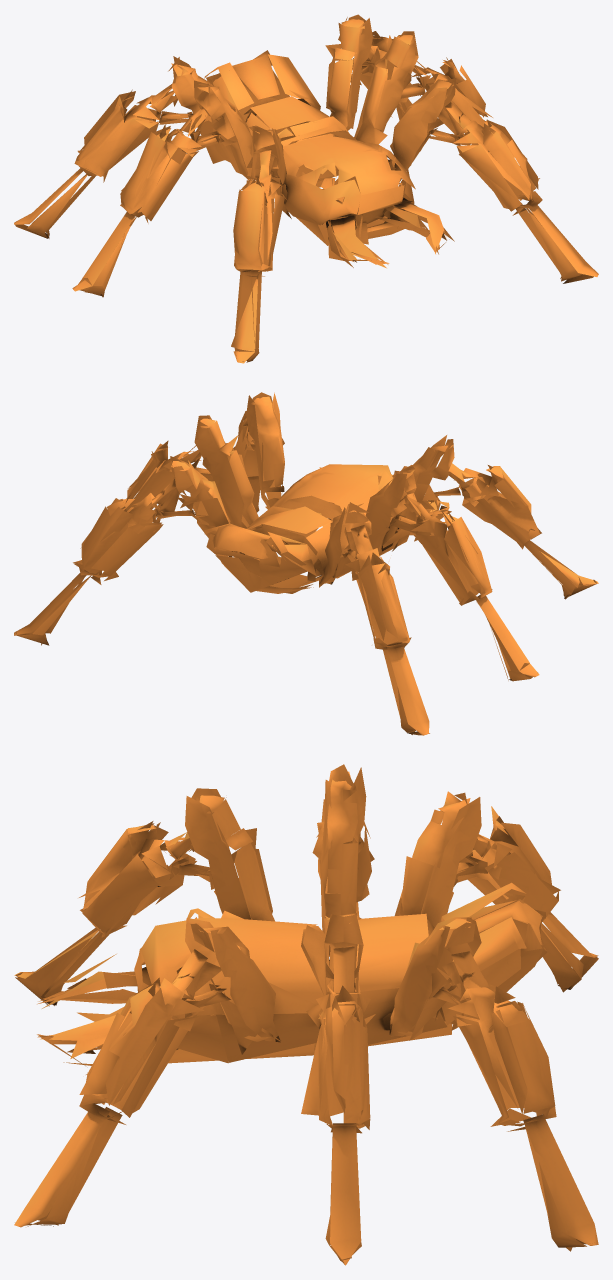
Rendered from spider_medium.glb.
3 views of the same model, one above another, from view 1: azimuth 30°, elevation 25°; view 2: azimuth 150°, elevation 25°; view 3: azimuth 270°, elevation 25° (orthographic). The views are drawn at different scales.
Visible parts, largest first — view 1: Cube.005; view 2: Cube.005; view 3: Cube.005.
Part boxes in pixels (bbox=[...]): Cube.005: bbox=[14, 14, 598, 363]; Cube.005: bbox=[14, 392, 598, 735]; Cube.005: bbox=[14, 764, 598, 1265].
Bounding box in the file's own units: 5.67 × 2.25 × 4.25.
1 material, 1 textured.
